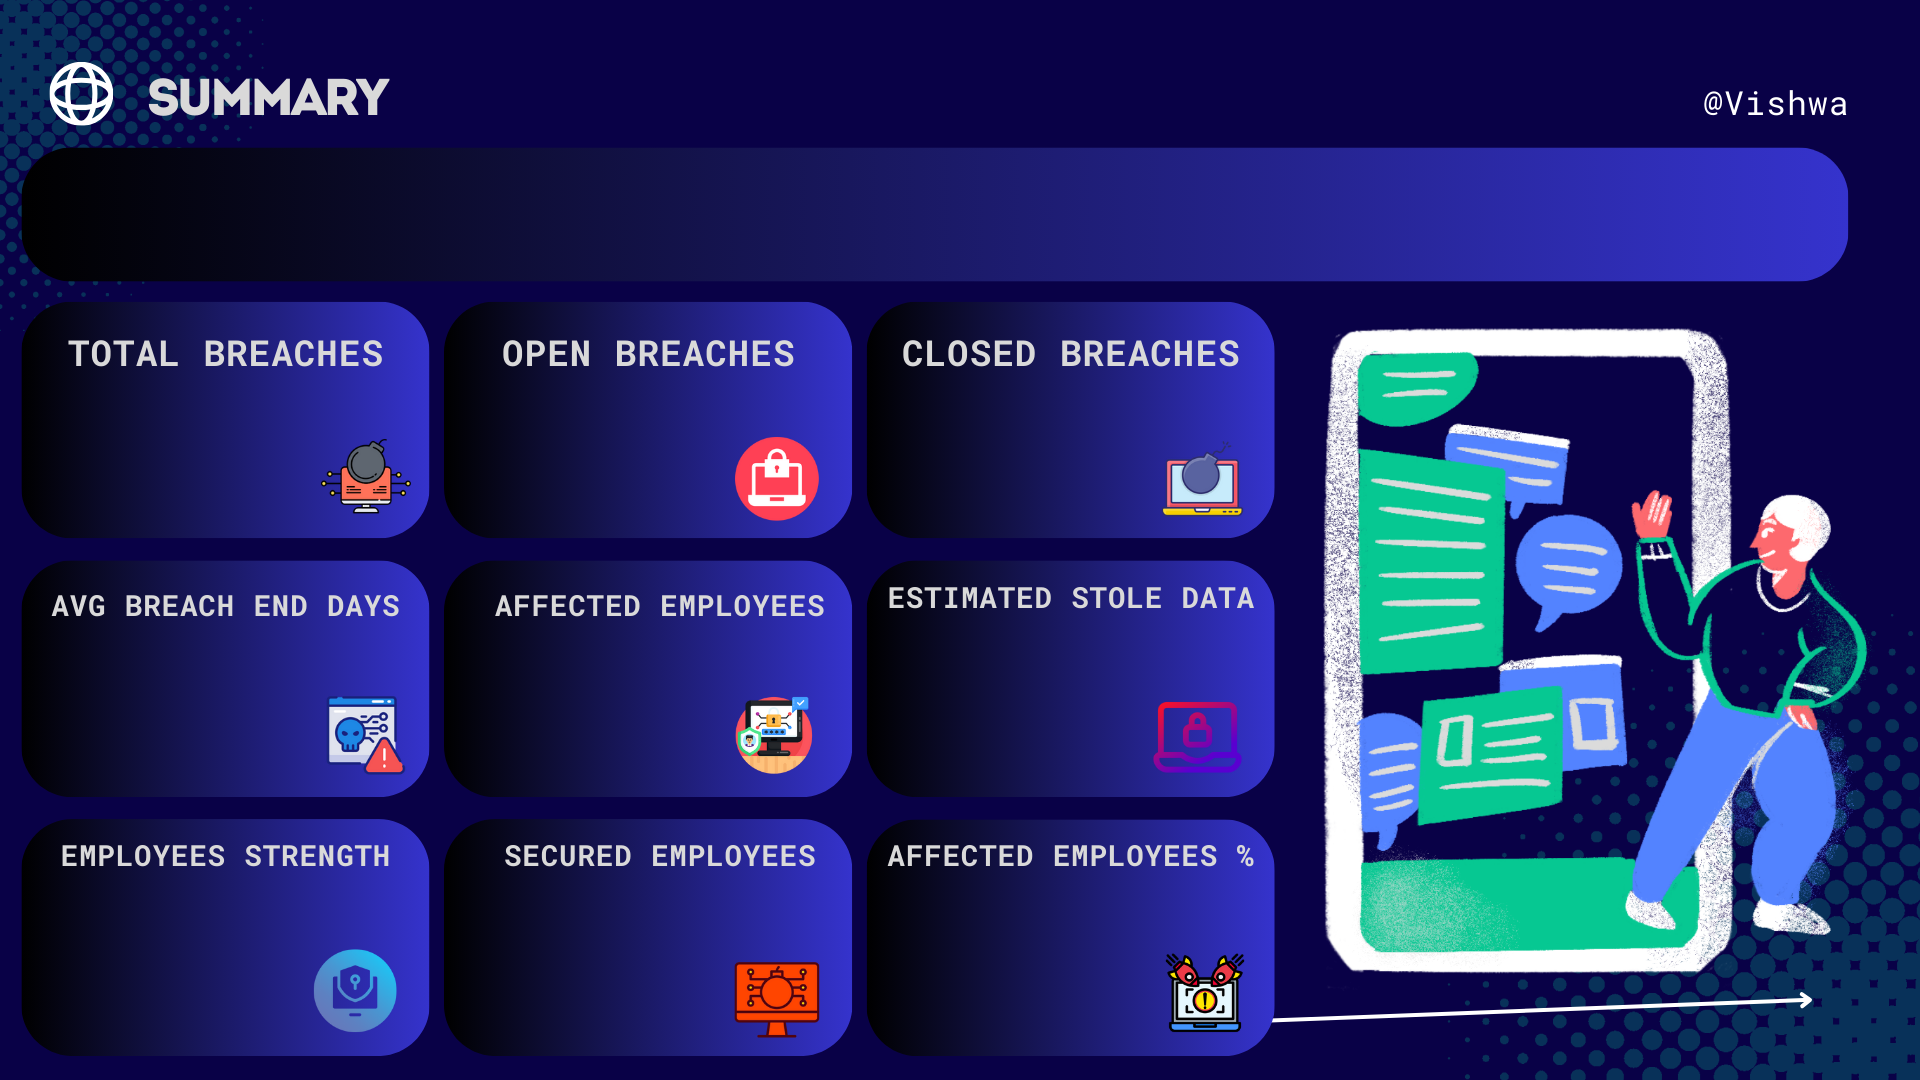

Layout of this report page (visuals, bound fields, positions):
{"tool":"powerbi","page":{"name":"Summary","canvas":[1459,720],"ordinal":5},"visuals":[{"type":"card","fields":{"Values":["Sum(other.Estimate Stole Data(GB))"]},"box":[729.2,444.8,174.4,68.1],"z":0},{"type":"card","fields":{"Values":["Sum(other.Number)"]},"box":[54.1,219.1,169.7,157.6],"z":1000},{"type":"slicer","fields":{"Values":["other.CountryBranch"]},"box":[175.3,111.9,267.6,66.2],"z":2000},{"type":"slicer","fields":{"Values":["other.Department"]},"box":[599.6,111.9,258.3,66.2],"z":3000},{"type":"slicer","fields":{"Values":["other.Branch"]},"box":[1022,112.8,258.3,66.2],"z":4000},{"type":"card","fields":{"Values":["Sum(other.Individuals_Affected)"]},"box":[420.5,436.4,145.5,94.2],"z":5000},{"type":"card","fields":{"Values":["Sum(other.Individuals_Affected)"]},"box":[733.9,600.5,146.4,95.1],"z":6000},{"type":"card","fields":{"Values":["Sum(other.Total Indicviduals)"]},"box":[51.3,597.7,169.7,99.8],"z":7000},{"type":"card","fields":{"Values":["Sum(other.Total Indicviduals)"]},"box":[722.7,248,169.7,99.8],"z":8000},{"type":"card","fields":{"Values":["Sum(other.Estimate Stole Data(GB))"]},"box":[51.3,444.8,175.3,68.1],"z":9000},{"type":"card","fields":{"Values":["Sum(other.Number)"]},"box":[408.4,587.5,169.7,132.4],"z":10000},{"type":"card","fields":{"Values":["Sum(other.Estimate Stole Data(GB))"]},"box":[390.7,263.9,175.3,68.1],"z":11000}]}

Visuals, with their boxes on the page's 1459x720 design canvas (x1, y1, x2, y2). These are canvas units, not pixel positions in the 1920x1080 screenshot, which may show the page scaled, cropped or inside an application window:
card - Sum(other.Estimate Stole Data(GB)): bbox(729, 445, 904, 513)
card - Sum(other.Number): bbox(54, 219, 224, 377)
slicer - other.CountryBranch: bbox(175, 112, 443, 178)
slicer - other.Department: bbox(600, 112, 858, 178)
slicer - other.Branch: bbox(1022, 113, 1280, 179)
card - Sum(other.Individuals_Affected): bbox(420, 436, 566, 531)
card - Sum(other.Individuals_Affected): bbox(734, 600, 880, 696)
card - Sum(other.Total Indicviduals): bbox(51, 598, 221, 698)
card - Sum(other.Total Indicviduals): bbox(723, 248, 892, 348)
card - Sum(other.Estimate Stole Data(GB)): bbox(51, 445, 227, 513)
card - Sum(other.Number): bbox(408, 588, 578, 720)
card - Sum(other.Estimate Stole Data(GB)): bbox(391, 264, 566, 332)
